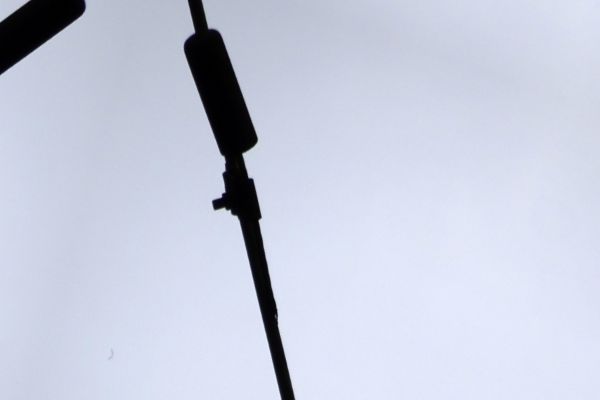damper_defect: (181, 22, 280, 320)
